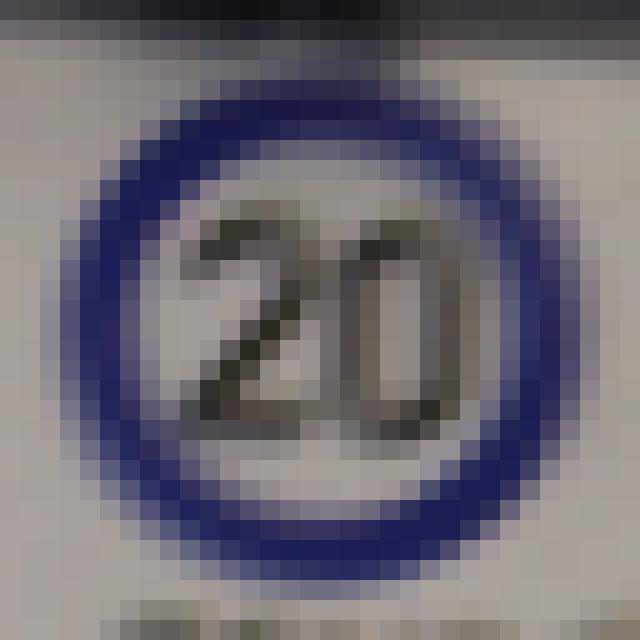SPEED LIMIT 20: (65, 81, 582, 588)
